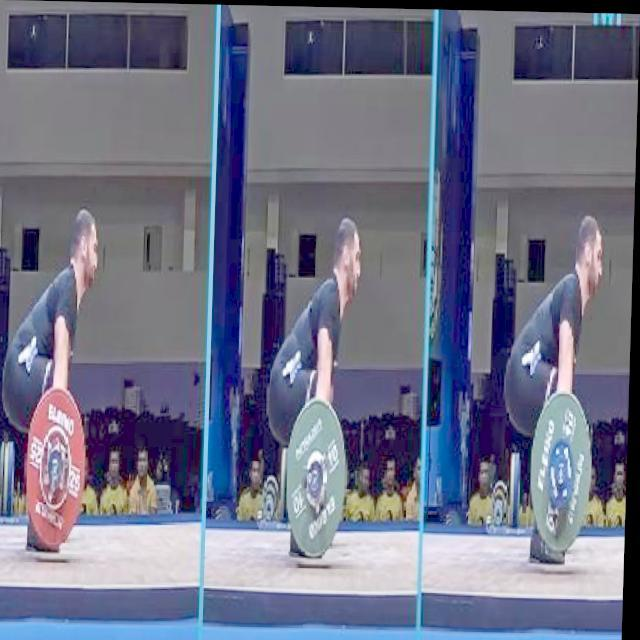barbell: (282, 392, 358, 562), (529, 385, 599, 555), (24, 383, 94, 552)
